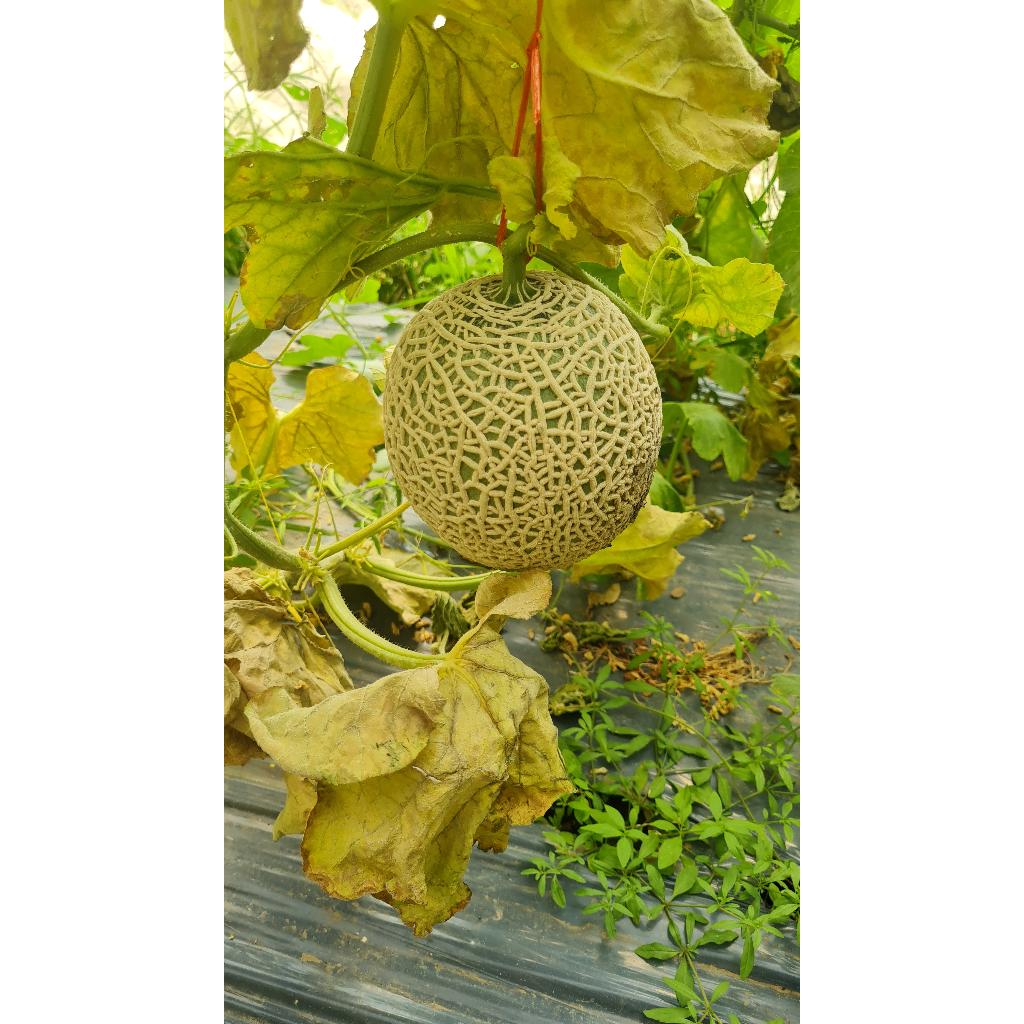melon: (384, 272, 662, 570)
